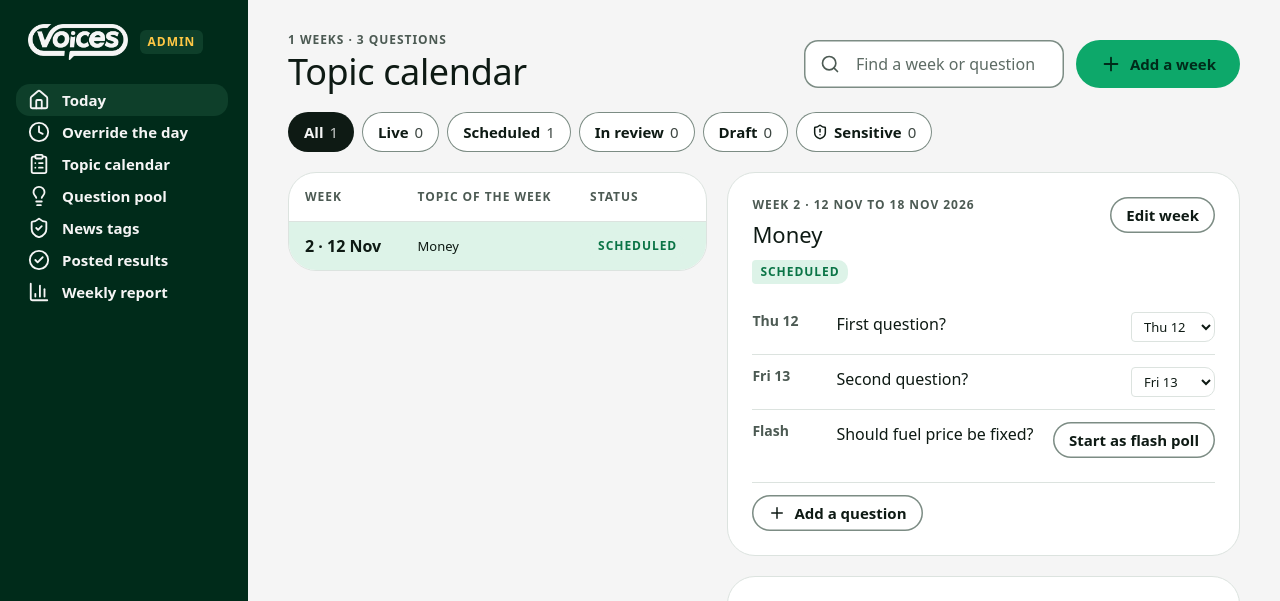
Test case: RW5: start a held flash question as a flash poll › shows the API's words when a flash poll is already open
Click the button "Start as flash poll": (1134, 440) [1053, 422, 1215, 458]
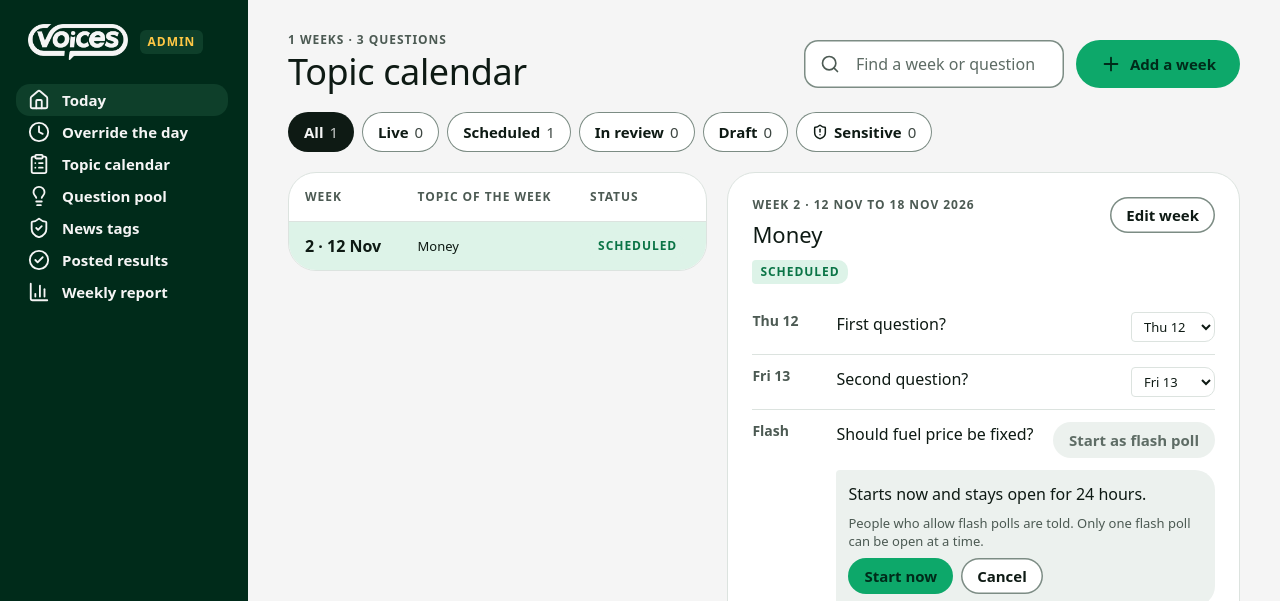
Click the button "Start now": (901, 576) [848, 558, 953, 594]
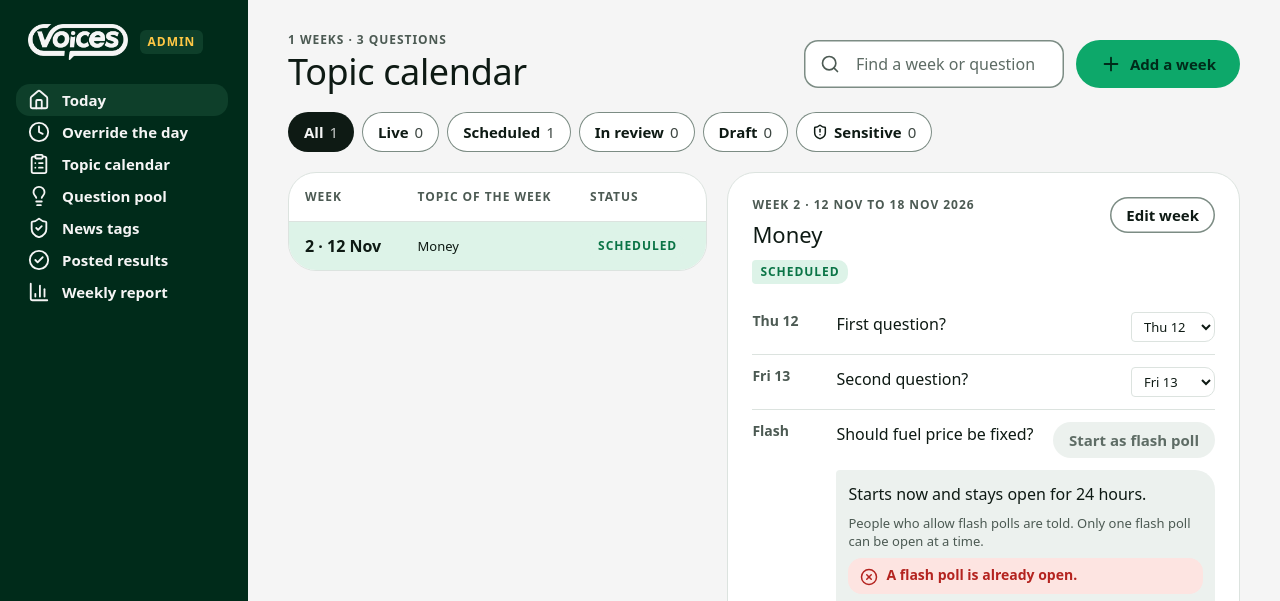
Expected: the text "A flash poll is already open." is shown, [886, 566, 1077, 584]
